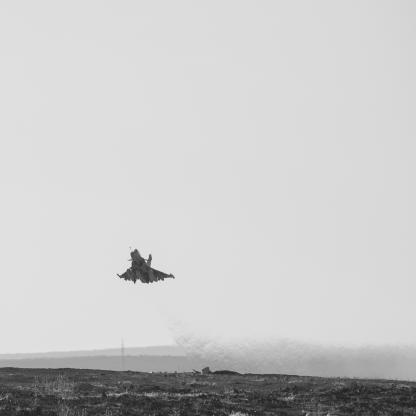Rafale: (118, 248, 176, 285)
